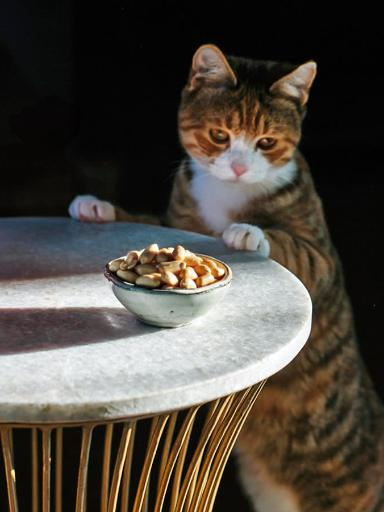cat_eating: (69, 45, 384, 511), (112, 244, 224, 326)
